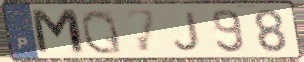7: (124, 8, 159, 55)
8: (251, 8, 289, 54)
9: (210, 8, 246, 55)
J: (172, 10, 202, 53)
M: (28, 8, 89, 57)
Q: (78, 8, 125, 56)
